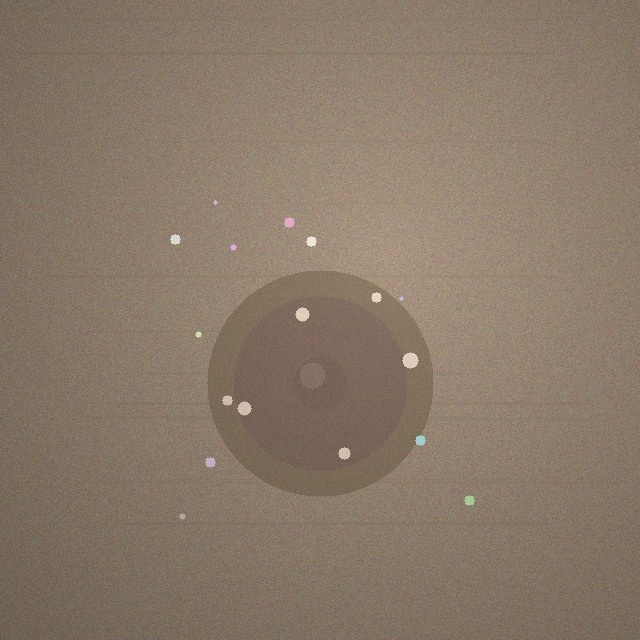overburn: (207, 270, 433, 496)
